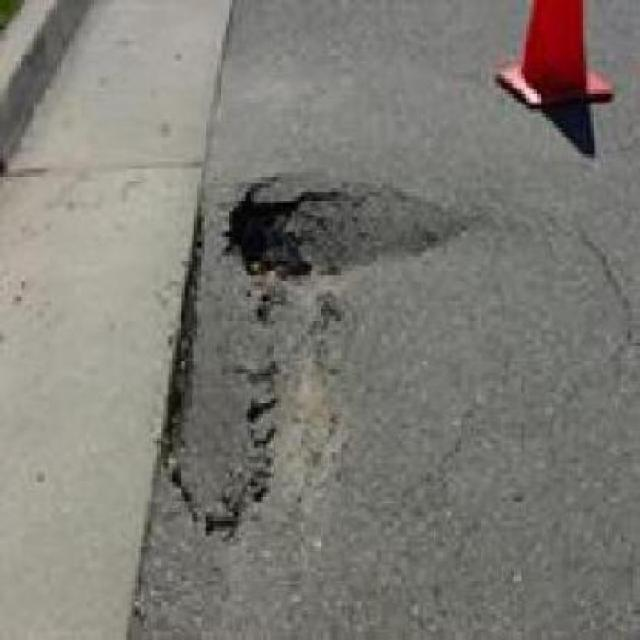Pothole: (152, 180, 283, 542), (220, 180, 468, 282)
